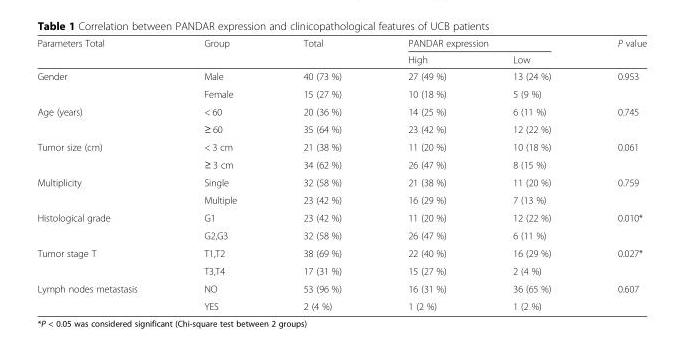table: (36, 36, 646, 311)
table column: (36, 36, 170, 311), (269, 36, 374, 311), (478, 36, 583, 311), (374, 36, 478, 311), (170, 36, 269, 311), (583, 36, 646, 311)
table column header: (36, 36, 646, 67)
table row: (36, 84, 646, 102), (36, 119, 646, 137), (36, 137, 646, 155), (36, 155, 646, 173), (36, 190, 646, 208), (36, 208, 646, 226), (36, 226, 646, 244), (36, 261, 646, 279), (36, 279, 646, 297), (36, 50, 646, 67), (36, 67, 646, 84), (36, 102, 646, 119), (36, 173, 646, 190), (36, 244, 646, 261), (36, 36, 646, 50), (36, 297, 646, 311)
table spanning cell: (36, 137, 170, 173), (36, 208, 170, 244), (36, 67, 170, 102), (36, 102, 170, 137), (36, 173, 170, 208), (36, 244, 170, 279), (36, 279, 170, 311), (36, 36, 170, 67), (269, 36, 374, 67), (170, 36, 269, 67), (374, 36, 583, 50), (583, 36, 646, 67)
